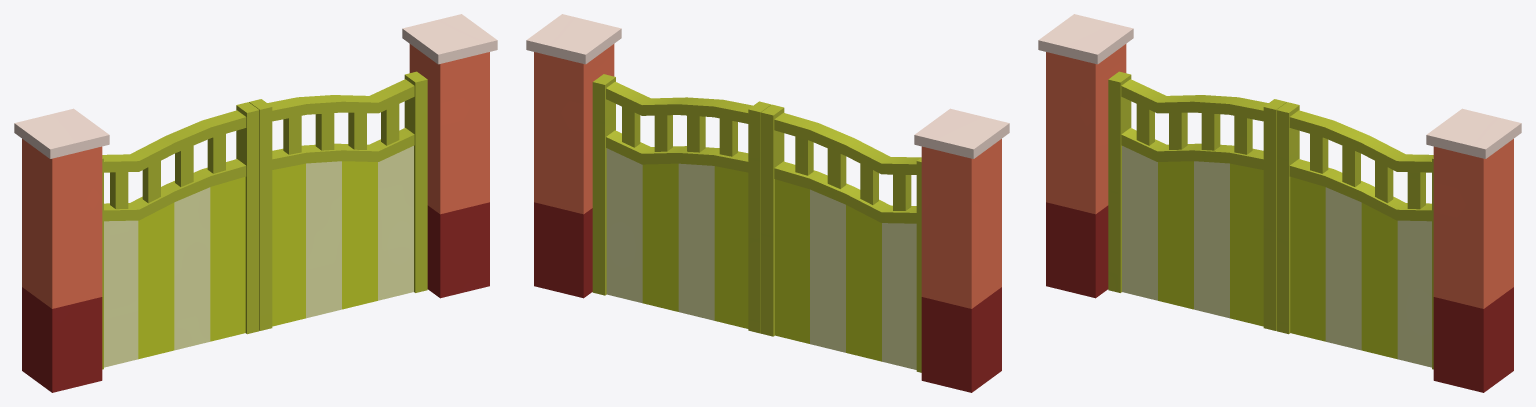
The model's file is Gate.fbx.
The picture shows the model from 3 angles, left to right: view 1: azimuth 30°, elevation 25°; view 2: azimuth 150°, elevation 25°; view 3: azimuth 330°, elevation 25°; orthographic projection.
Visible parts, largest first — view 1: Gate_Pillar, Gate_R, Gate_L; view 2: Gate_Pillar, Gate_R, Gate_L; view 3: Gate_Pillar, Gate_L, Gate_R.
Boxes of the visible parts, left/top/right/bottom form: Gate_Pillar: left=14, top=14, right=497, bottom=392; Gate_R: left=249, top=71, right=427, bottom=330; Gate_L: left=102, top=102, right=259, bottom=369; Gate_Pillar: left=526, top=14, right=1009, bottom=392; Gate_R: left=592, top=74, right=771, bottom=333; Gate_L: left=761, top=104, right=921, bottom=372; Gate_Pillar: left=1038, top=14, right=1521, bottom=392; Gate_L: left=1108, top=71, right=1286, bottom=330; Gate_R: left=1276, top=102, right=1433, bottom=369.
Bounding box in the file's own units: 667 × 351 × 92.55.
